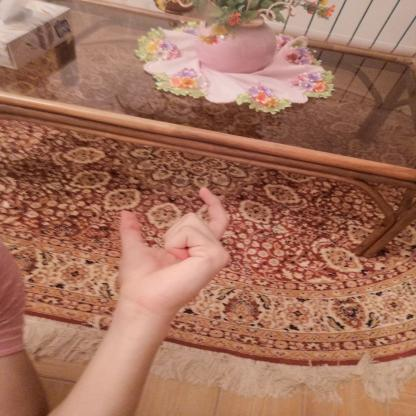NOON: (107, 179, 244, 317)
